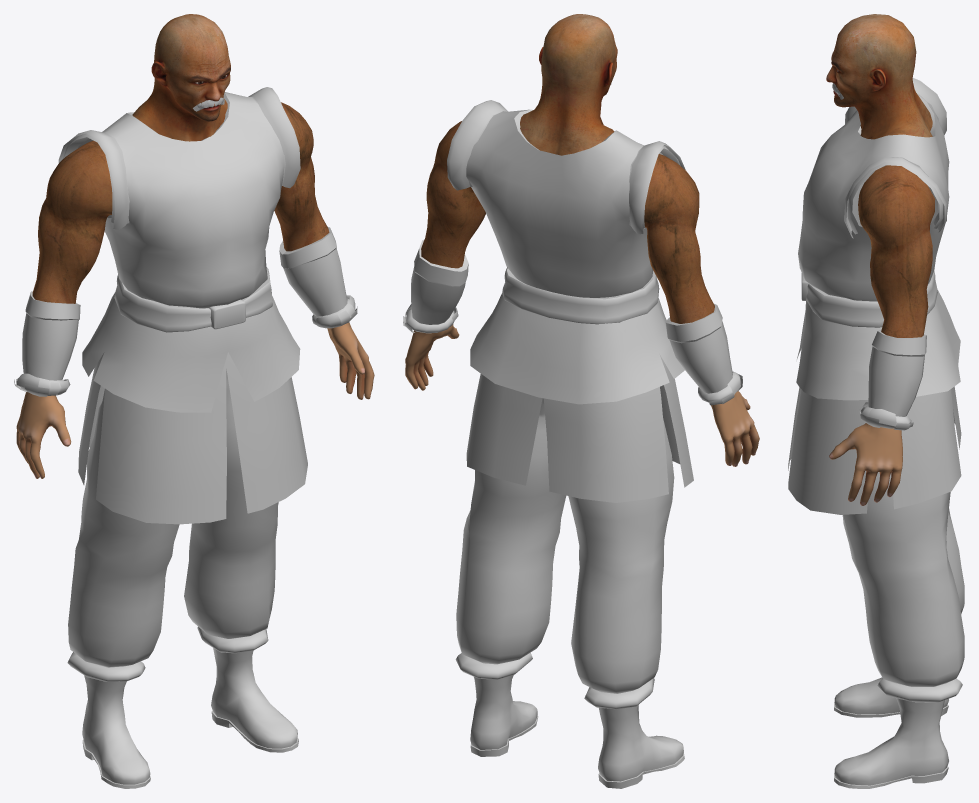
The model's file is boss_01_test.fbx.
3 renders of one model, left to right at view 1: azimuth 30°, elevation 25°; view 2: azimuth 150°, elevation 25°; view 3: azimuth 270°, elevation 25°, orthographic.
Visible parts, largest first — view 1: boss_01, boss_01_head, boss_01_arms; view 2: boss_01, boss_01_head, boss_01_arms; view 3: boss_01, boss_01_head, boss_01_arms.
Part boxes in pixels (x1=…): boss_01: x1=14, y1=87, x2=357, y2=788; boss_01_head: x1=16, y1=14, x2=374, y2=478; boss_01_arms: x1=32, y1=102, x2=329, y2=303; boss_01: x1=403, y1=100, x2=742, y2=788; boss_01_head: x1=405, y1=14, x2=759, y2=466; boss_01_arms: x1=421, y1=121, x2=714, y2=323; boss_01: x1=788, y1=78, x2=964, y2=788; boss_01_head: x1=826, y1=14, x2=932, y2=505; boss_01_arms: x1=858, y1=165, x2=935, y2=337.
Size of the model in its own units: 221 by 453 by 99.6.
